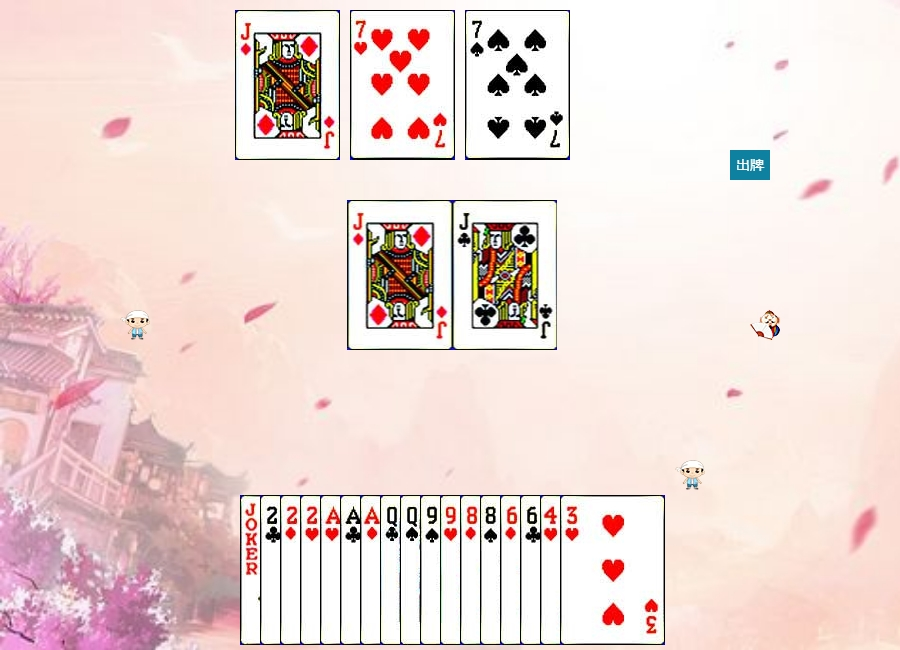11~1: (235, 10, 340, 160), (348, 200, 453, 350)
11~2: (453, 200, 558, 350)
12~2: (380, 495, 485, 645)
12~4: (400, 495, 505, 645)
14~1: (360, 495, 465, 645)
14~2: (340, 495, 445, 645)
14~3: (320, 495, 425, 645)
15~1: (280, 495, 385, 645)
15~2: (260, 495, 365, 645)
15~3: (300, 495, 405, 645)
18~4: (240, 495, 345, 645)
3~3: (560, 495, 665, 645)
4~3: (540, 495, 645, 645)
6~1: (500, 495, 605, 645)
6~2: (520, 495, 625, 645)
7~3: (350, 10, 455, 160)
7~4: (465, 10, 570, 160)
8~1: (460, 495, 565, 645)
8~4: (480, 495, 585, 645)
9~3: (440, 495, 545, 645)
9~4: (420, 495, 525, 645)
